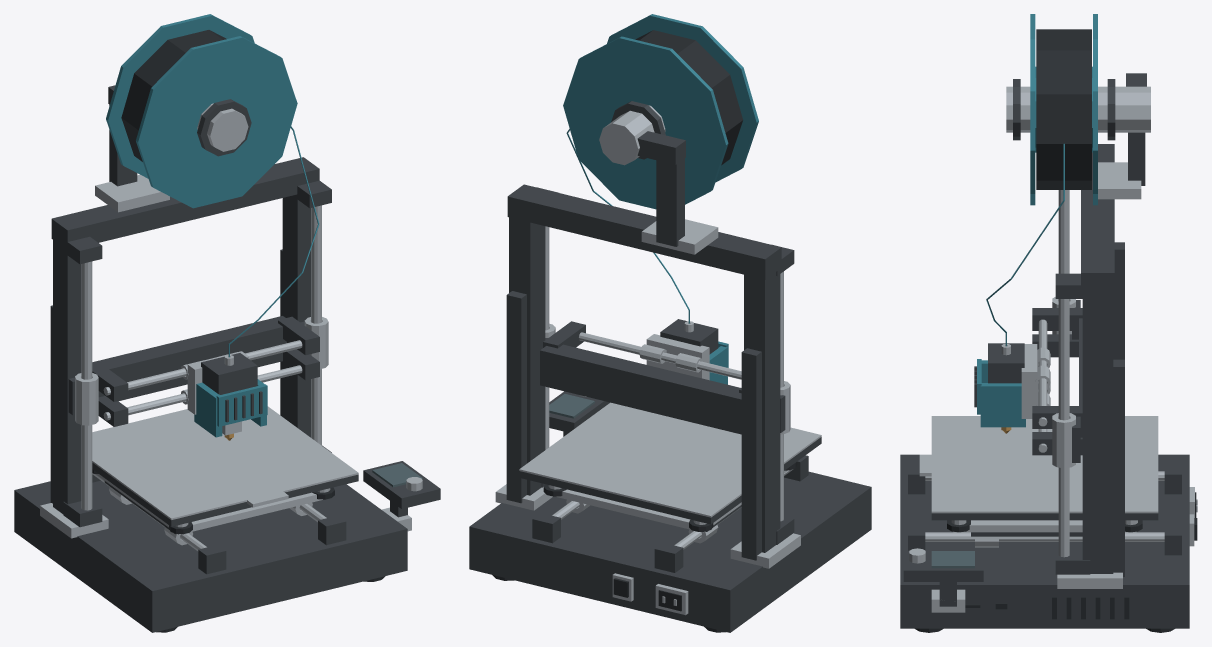
3 renders of one model, left to right at view 1: azimuth 30°, elevation 25°; view 2: azimuth 150°, elevation 25°; view 3: azimuth 270°, elevation 25°, orthographic. The views are drawn at different scales.
Parts seen in each view (by area): view 1: Base_electronics_closed, Spool_flange, Removable_build_surface, Upright, Gantry_top_beam, Z_crossbeam_enclosed_drive, Upright.001, Spool_flange.001, Wound_filament, Z_guide_rod, Z_guide_rod.001, Extruder_upper_body (+26 smaller); view 2: Base_electronics_closed, Removable_build_surface, Spool_flange.001, Z_crossbeam_enclosed_drive, Gantry_top_beam, Upright, Upright.001, Upright_rear_rib, Upright_rear_rib.001, Spool_flange, Wound_filament, Spool_upright (+18 smaller); view 3: Base_electronics_closed, Removable_build_surface, Wound_filament, Upright.001, Gantry_top_beam, Spool_axle, Upright_rear_rib.001, Z_guide_rod.001, Shroud_right, Display_housing, Spool_support_foot, Heated_plate_enclosure (+29 smaller).
Boxes of the visible parts, x1,y1,x2,y2 form: Base_electronics_closed: [14, 480, 407, 632]; Spool_flange: [136, 36, 297, 208]; Removable_build_surface: [92, 406, 358, 519]; Upright: [53, 240, 81, 513]; Gantry_top_beam: [51, 157, 319, 249]; Z_crossbeam_enclosed_drive: [92, 316, 286, 401]; Upright.001: [282, 195, 310, 437]; Spool_flange.001: [106, 14, 254, 178]; Wound_filament: [121, 30, 226, 161]; Z_guide_rod: [81, 261, 92, 510]; Z_guide_rod.001: [311, 205, 321, 445]; Extruder_upper_body: [201, 353, 257, 394]; Base_electronics_closed: [469, 471, 871, 632]; Removable_build_surface: [519, 402, 821, 517]; Spool_flange.001: [563, 36, 728, 209]; Z_crossbeam_enclosed_drive: [540, 344, 741, 434]; Gantry_top_beam: [507, 184, 781, 279]; Upright: [744, 272, 780, 552]; Upright.001: [509, 217, 545, 495]; Upright_rear_rib: [741, 348, 761, 560]; Upright_rear_rib.001: [506, 291, 526, 503]; Spool_flange: [607, 14, 758, 182]; Wound_filament: [635, 30, 742, 165]; Spool_upright: [656, 145, 684, 246]; Base_electronics_closed: [900, 454, 1189, 628]; Removable_build_surface: [931, 416, 1158, 513]; Wound_filament: [1036, 29, 1091, 189]; Upright.001: [1082, 294, 1113, 573]; Gantry_top_beam: [1081, 144, 1114, 293]; Spool_axle: [1006, 86, 1150, 132]; Upright_rear_rib.001: [1113, 359, 1124, 576]; Z_guide_rod.001: [1058, 299, 1069, 557]; Shroud_right: [980, 383, 1025, 427]; Display_housing: [903, 550, 983, 581]; Spool_support_foot: [1098, 162, 1141, 199]; Heated_plate_enclosure: [931, 513, 1158, 520].
Bounding box in the file's own units: 0.371 × 0.6251 × 0.3085.
